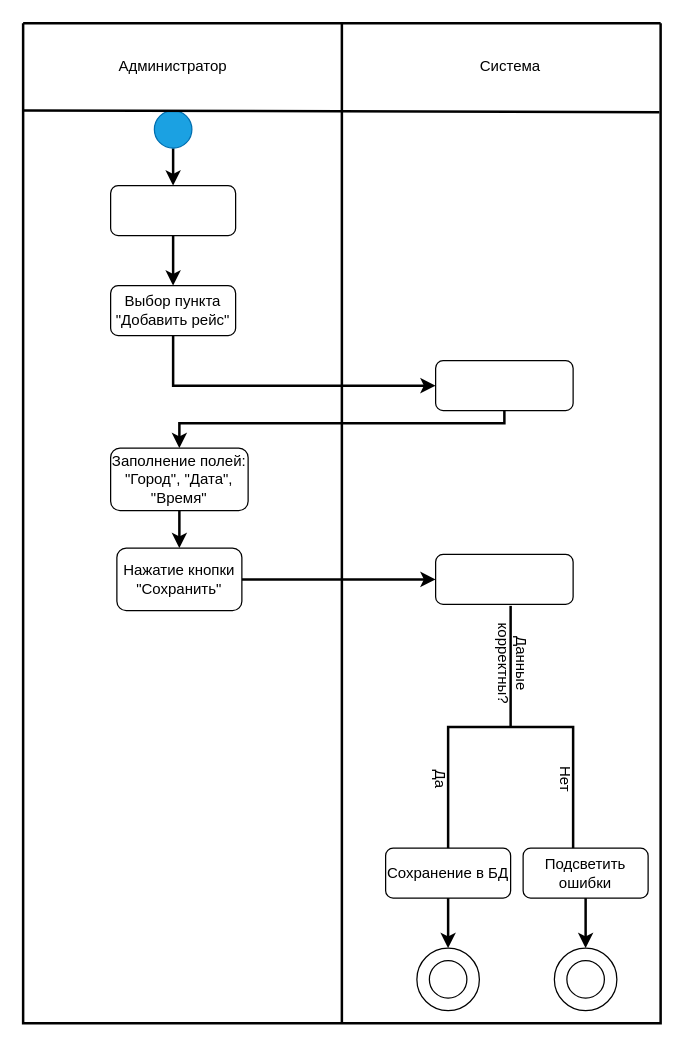
The diagram is 683 pixels wide and 1046 high, and some of its shapes have lost their labels. The shapes that lost their labels are listed below. From the top down, each one's centre as x and y in pixels, then its label:
At (x=172, y=210): "Вход в админку".
At (x=503, y=385): "Открыть форму создания рейса".
At (x=503, y=578): "Проверка заполнения полей".
